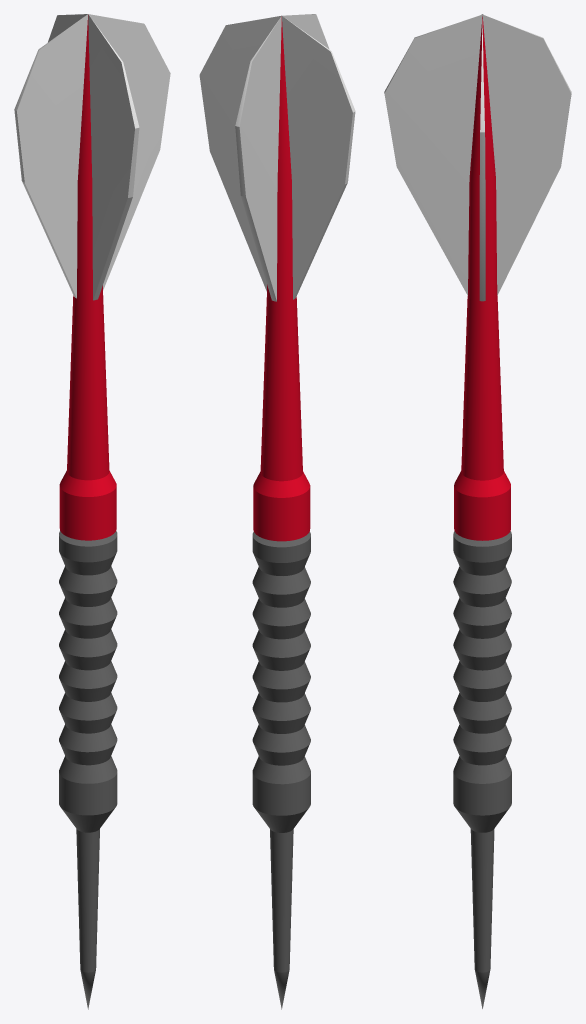
The model's file is Dart.fbx.
3 renders of one model, left to right at view 1: azimuth 30°, elevation 25°; view 2: azimuth 150°, elevation 25°; view 3: azimuth 270°, elevation 25°, orthographic.
Visible parts, largest first — view 1: Dart; view 2: Dart; view 3: Dart.
Boxes of the visible parts, box(x1,y1,x2,y2) form: Dart: box(14, 14, 170, 1009); Dart: box(199, 14, 355, 1009); Dart: box(384, 14, 571, 1008).
Size of the model in its own units: 1.86 by 11.5 by 1.96.
